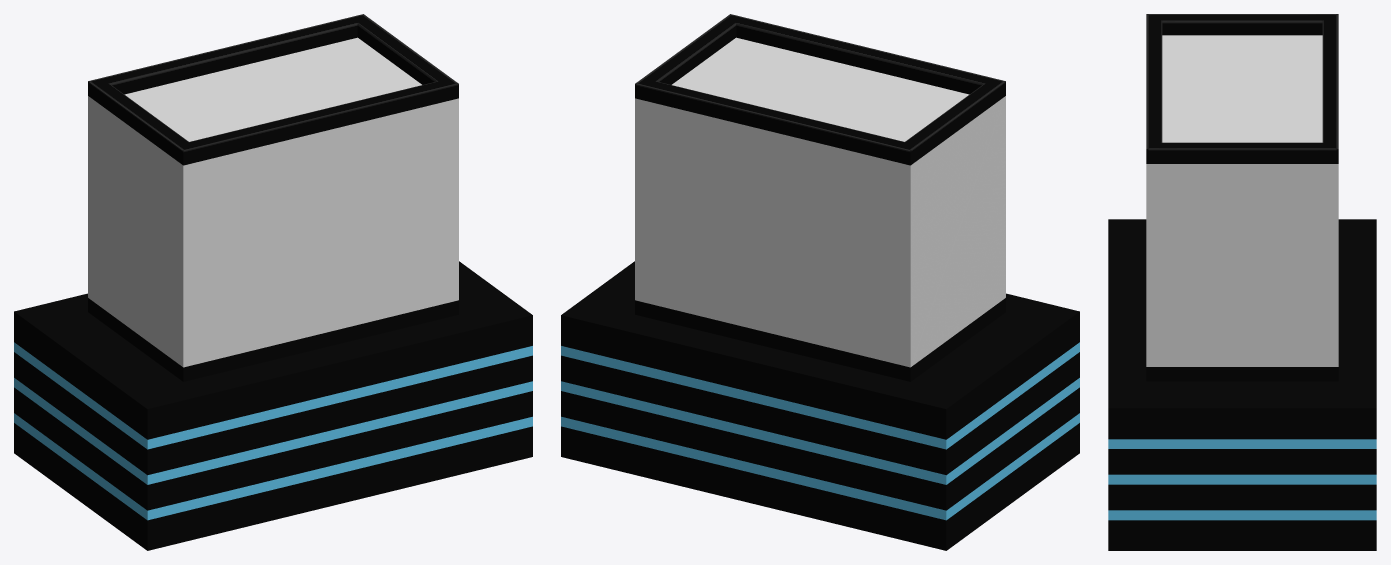
File: fishTank.fbx
3 views of the same model, side by side, from view 1: azimuth 30°, elevation 25°; view 2: azimuth 150°, elevation 25°; view 3: azimuth 270°, elevation 25° (orthographic).
Parts seen in each view (by area): view 1: fishTank; view 2: fishTank; view 3: fishTank.
Boxes of the visible parts, <box> form: fishTank: <box>14,14,532,550</box>; fishTank: <box>561,14,1079,550</box>; fishTank: <box>1108,14,1376,550</box>.
Size of the model in its own units: 7103 by 6560 by 4262.
